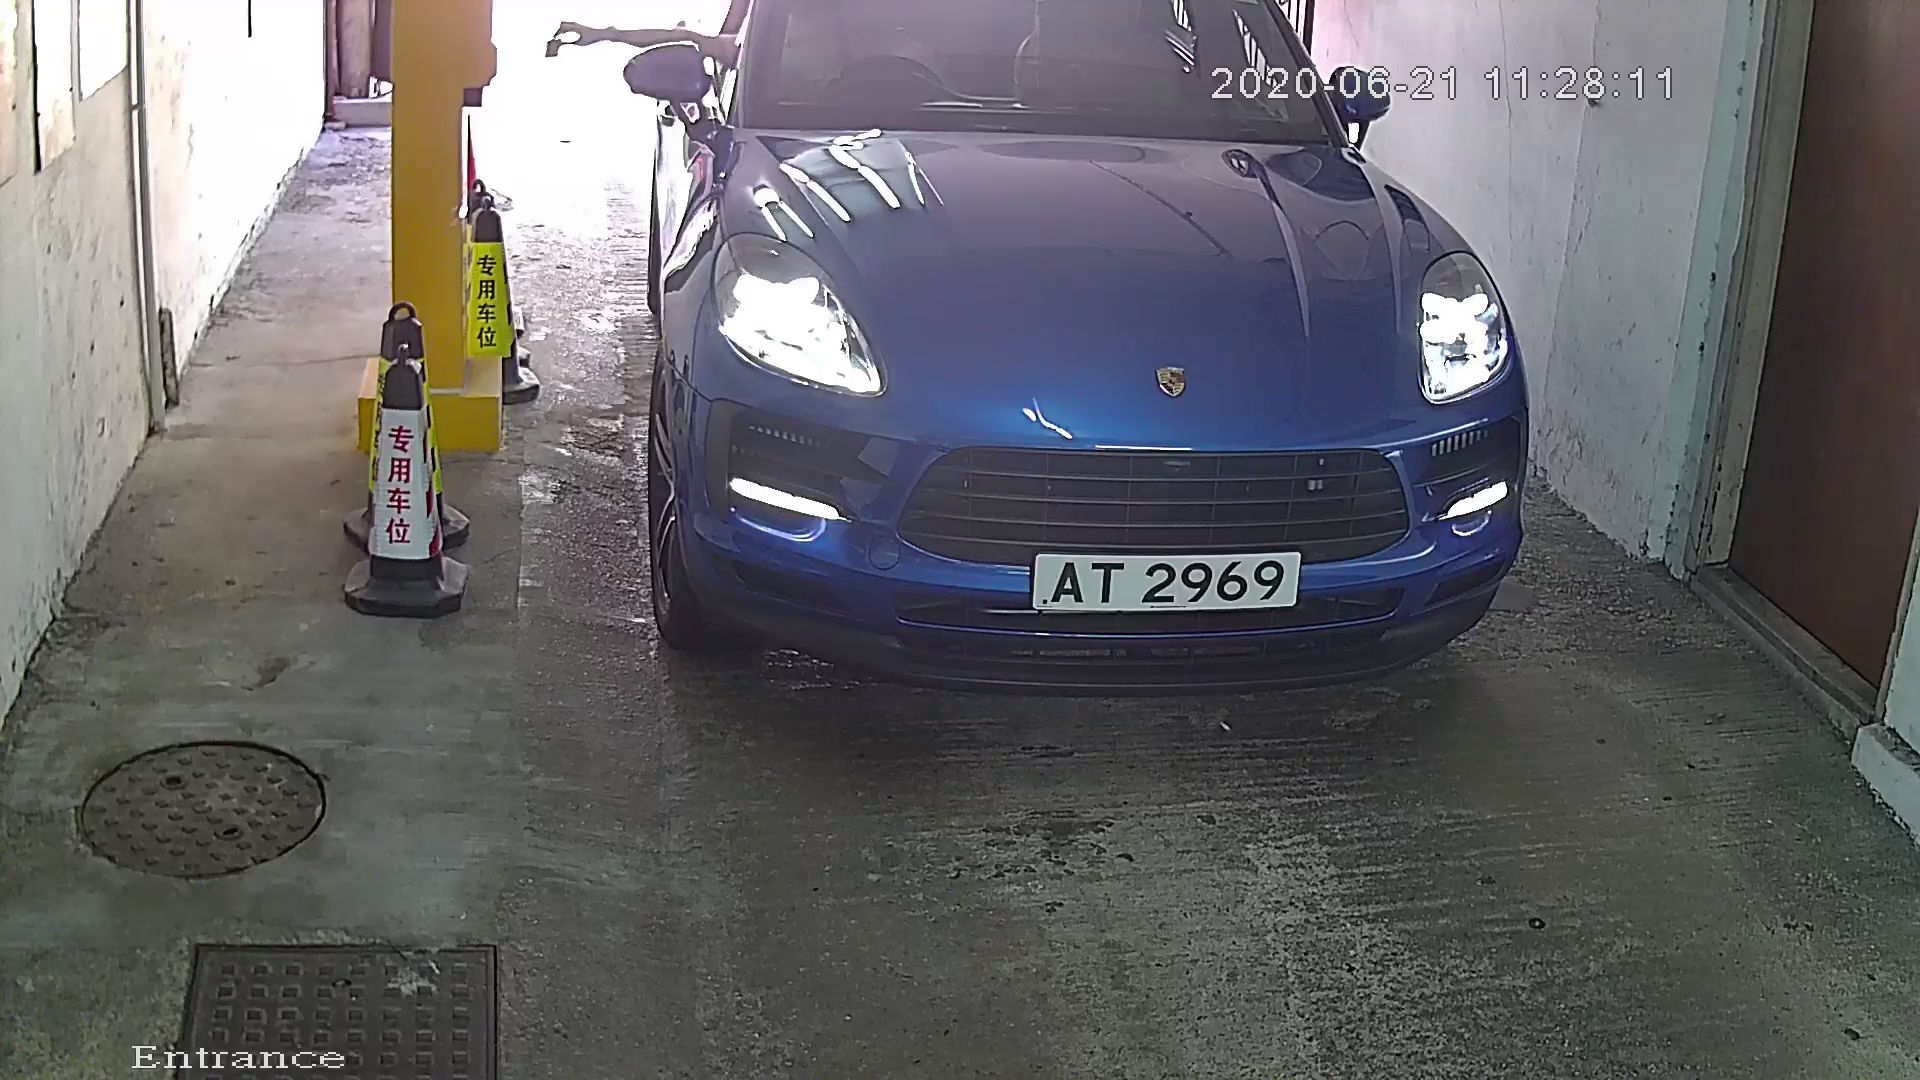privatecar: (601, 1, 1557, 717)
